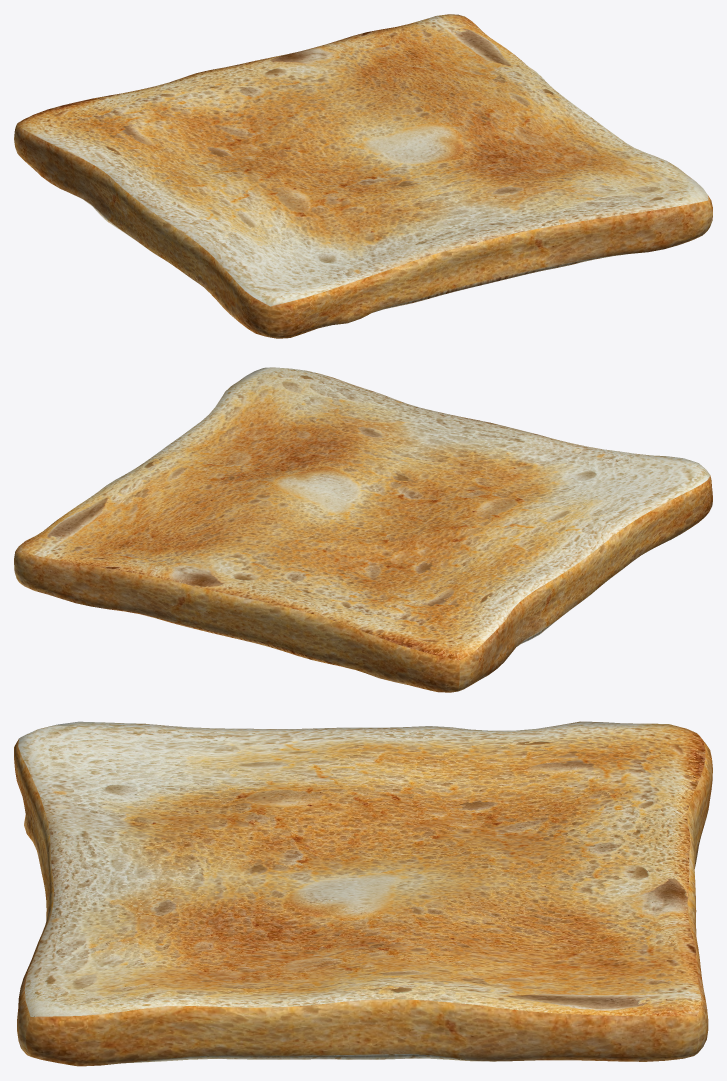
The model's file is toast.glb.
The picture shows the model from 3 angles, top to bottom: view 1: azimuth 30°, elevation 25°; view 2: azimuth 150°, elevation 25°; view 3: azimuth 270°, elevation 25°; orthographic projection. The views are drawn at different scales.
Visible parts, largest first — view 1: Slice Of Toasted Bread; view 2: Slice Of Toasted Bread; view 3: Slice Of Toasted Bread.
Boxes of the visible parts, x1=… form: Slice Of Toasted Bread: x1=14, y1=14, x2=712, y2=338; Slice Of Toasted Bread: x1=14, y1=367, x2=712, y2=692; Slice Of Toasted Bread: x1=14, y1=721, x2=712, y2=1066.
Size of the model in its own units: 0.11 by 0.012 by 0.1098.
1 material, 1 textured.
